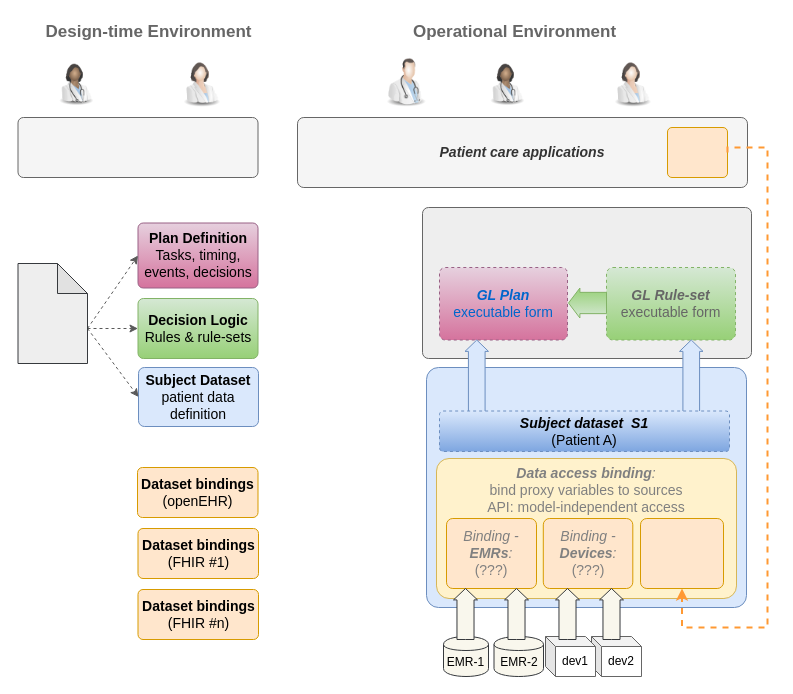
Image size: 793x694. Some labels were removed from this diagram. Each missing label, with the box of its shape:
Binding - Users : (???): (640, 518, 724, 588)
Clinical Design Tools customise to patient type / individual: (17, 116, 258, 178)
Missing data: (666, 126, 728, 178)
NHS RCHOPS-21 guideline: (17, 262, 88, 364)
Plan / Guideline execution container: (422, 206, 752, 358)
Subject proxy service populate & cache subject data: (426, 366, 746, 608)
